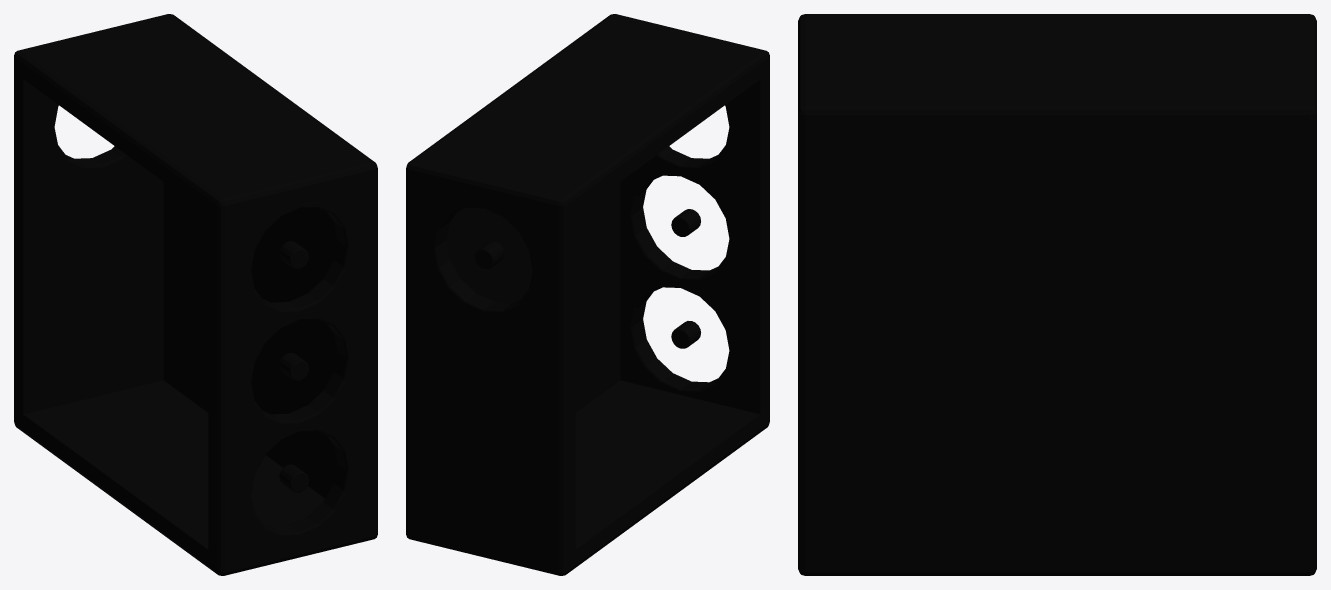
Rendered from PC_Case.fbx.
The picture shows the model from 3 angles, left to right: view 1: azimuth 30°, elevation 25°; view 2: azimuth 150°, elevation 25°; view 3: azimuth 270°, elevation 25°; orthographic projection. The views are drawn at different scales.
Parts seen in each view (by area): view 1: PC Case.002, PC Case.010, PC Case.006, PC Case.008, PC Case.011; view 2: PC Case.002, PC Case.010, PC Case.011, PC Case.008, PC Case.006; view 3: PC Case.002.
Part boxes in pixels (box(x1,y1,x2,y2)): PC Case.002: box(14, 14, 377, 575); PC Case.010: box(240, 412, 359, 553); PC Case.006: box(240, 189, 359, 329); PC Case.008: box(240, 300, 359, 441); PC Case.011: box(43, 94, 137, 185); PC Case.002: box(406, 14, 769, 575); PC Case.010: box(620, 268, 740, 409); PC Case.011: box(424, 189, 543, 329); PC Case.008: box(620, 163, 740, 297); PC Case.006: box(646, 94, 740, 185); PC Case.002: box(798, 14, 1316, 575).
Bounding box in the file's own units: 40 × 90 × 90.
